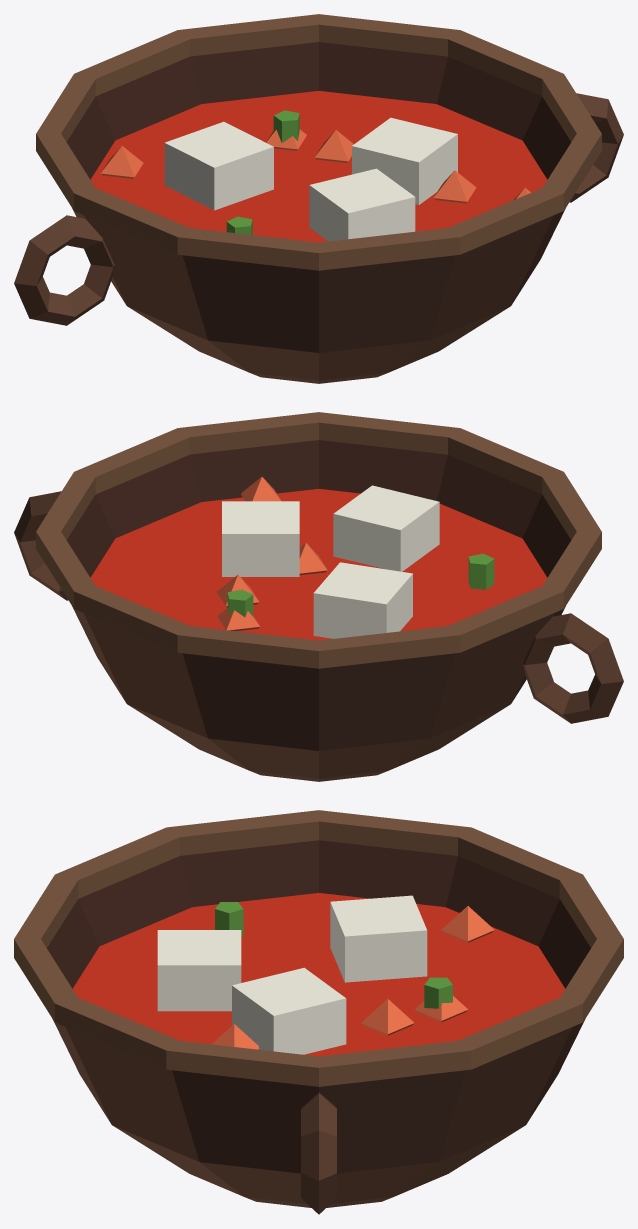
File: Food_KimchiStew.obj
3 renders of one model, top to bottom at view 1: azimuth 30°, elevation 25°; view 2: azimuth 150°, elevation 25°; view 3: azimuth 270°, elevation 25°, orthographic. The views are drawn at different scales.
Bounding box in the file's own units: 2.54 × 0.8 × 2.04.
